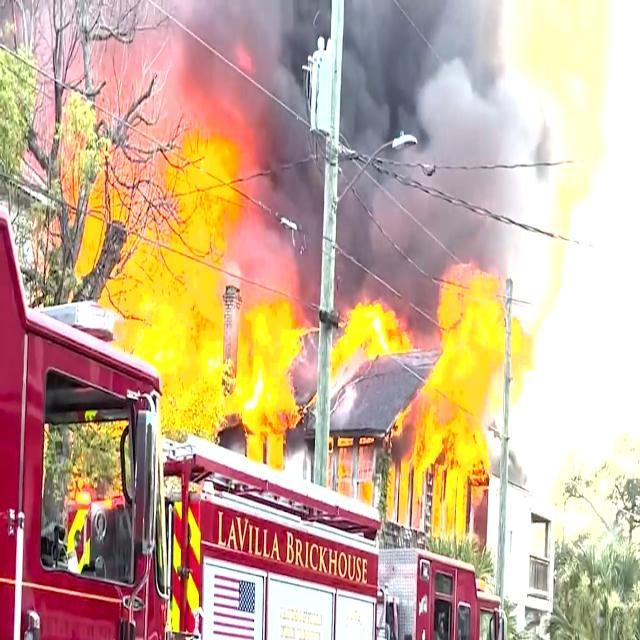Fire: (102, 134, 290, 416), (407, 324, 498, 523), (454, 262, 532, 354)
Smoke: (278, 0, 564, 223), (121, 4, 247, 102), (305, 227, 418, 310)
